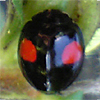Two_spots: (17, 8, 84, 94)
